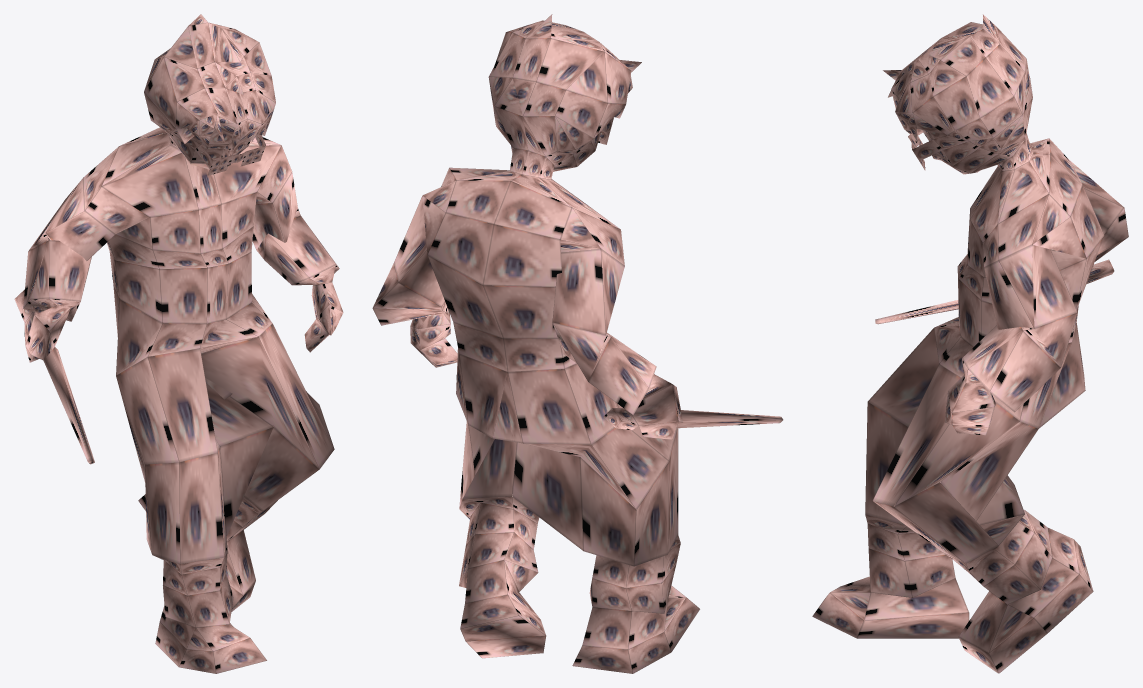
3 renders of one model, left to right at view 1: azimuth 30°, elevation 25°; view 2: azimuth 150°, elevation 25°; view 3: azimuth 270°, elevation 25°, orthographic. The views are drawn at different scales.
Visible parts, largest first — view 1: T1L8M007_14; view 2: T1L8M007_14; view 3: T1L8M007_14.
Part boxes in pixels (x1,y1,x2,y2): T1L8M007_14: (14,14,343,673); T1L8M007_14: (372,14,783,673); T1L8M007_14: (812,14,1128,673).
Size of the model in its own units: 0.6965 by 1.32 by 0.5968.
Materials: 1 (1 with a texture image).
